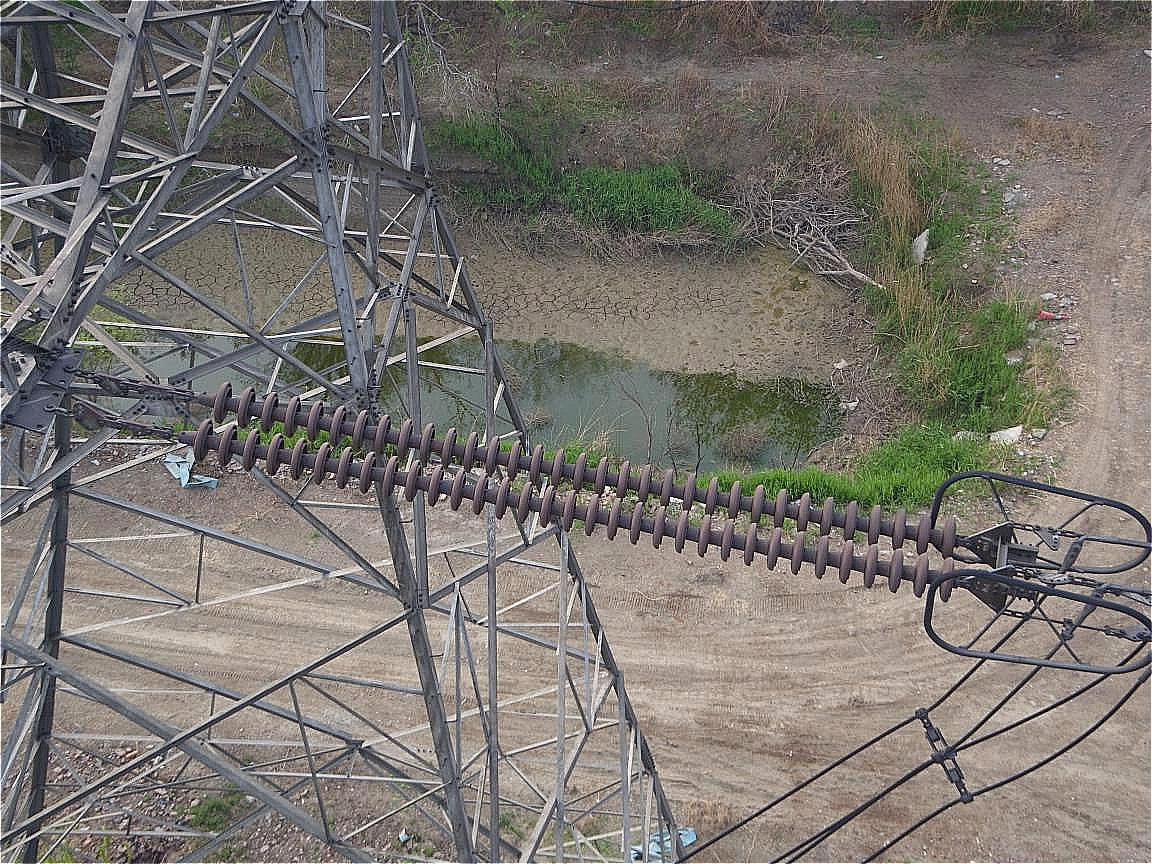insultor1: (137, 381, 975, 602)
